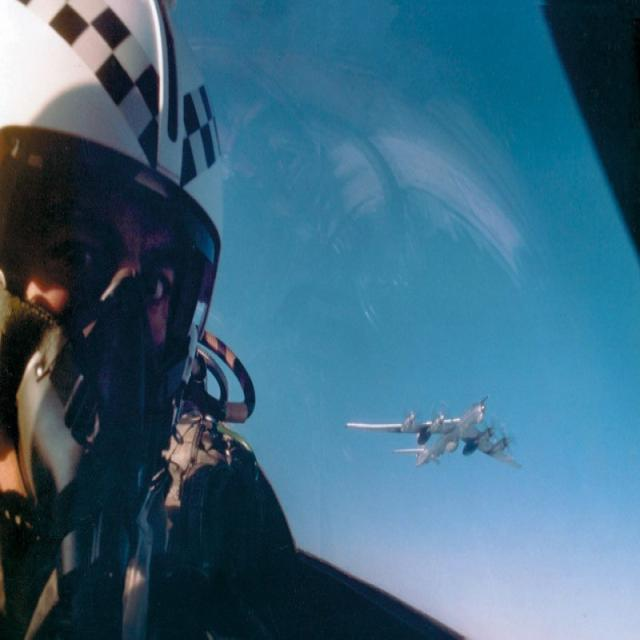MIL_Plane: (345, 394, 523, 471)
